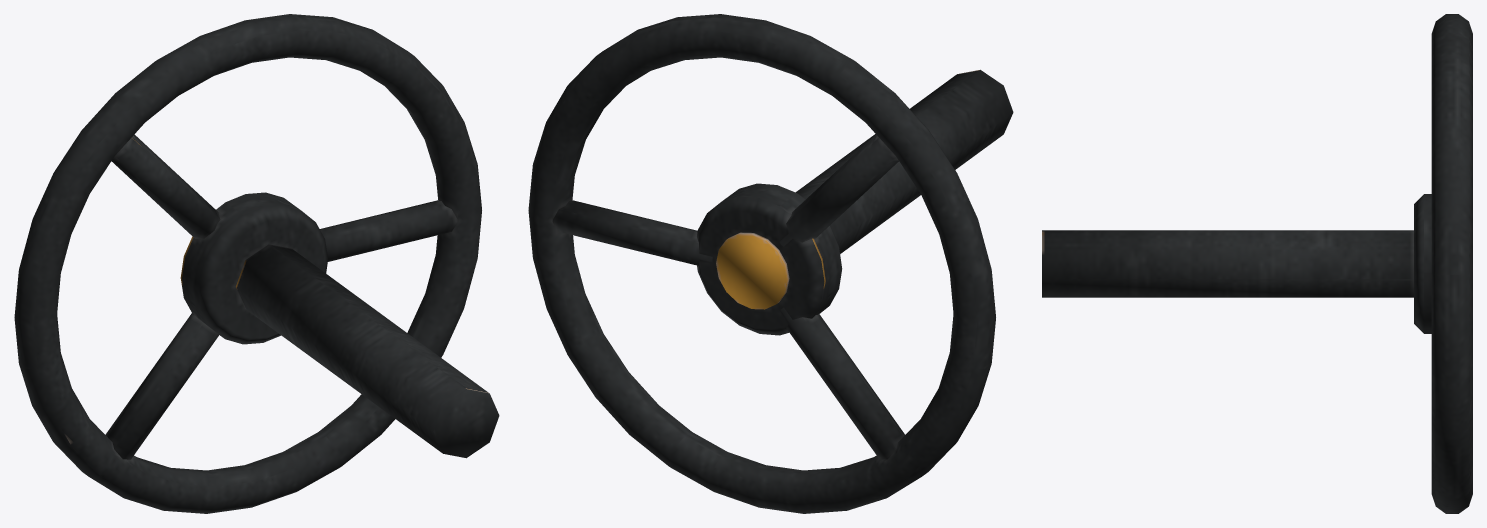
The model's file is mule_steering.glb.
The picture shows the model from 3 angles, left to right: view 1: azimuth 30°, elevation 25°; view 2: azimuth 150°, elevation 25°; view 3: azimuth 270°, elevation 25°; orthographic projection. The views are drawn at different scales.
Visible parts, largest first — view 1: mule_steering; view 2: mule_steering; view 3: mule_steering.
Part boxes in pixels (box(x1,y1,x2,y2)): mule_steering: box(14, 14, 499, 513); mule_steering: box(528, 14, 1013, 513); mule_steering: box(1042, 14, 1472, 513).
Bounding box in the file's own units: 0.3904 × 0.3904 × 0.336.
Materials: 1 (1 with a texture image).
